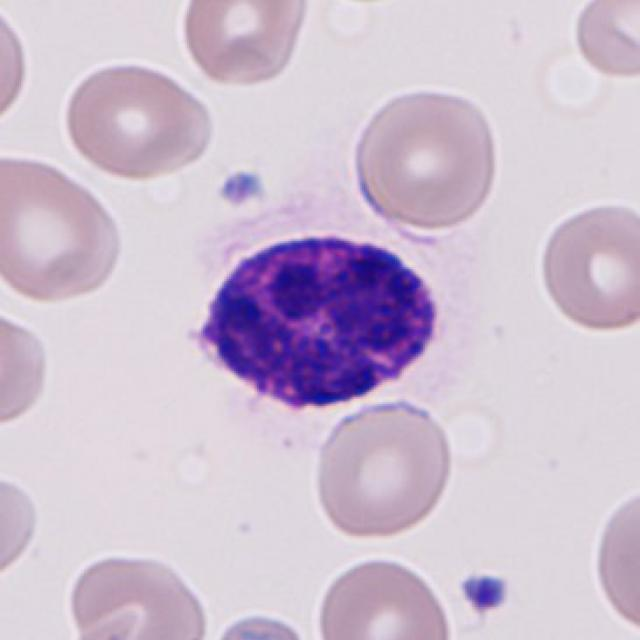Basophil: (166, 215, 483, 448)
Platelets: (456, 569, 516, 616), (213, 165, 270, 210)
RBC: (350, 81, 502, 232), (309, 395, 456, 543), (0, 149, 129, 307), (58, 56, 218, 182), (534, 196, 638, 336), (63, 546, 213, 640), (312, 551, 456, 640), (177, 0, 313, 90), (590, 478, 638, 634), (0, 305, 56, 434), (430, 392, 511, 475), (568, 0, 639, 83), (0, 468, 44, 586), (0, 1, 31, 135), (203, 609, 320, 640)
